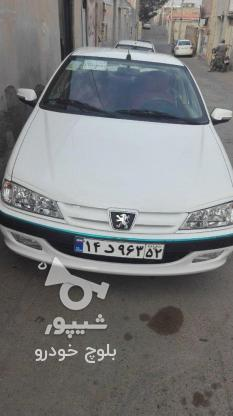car: (75, 235, 163, 260)
